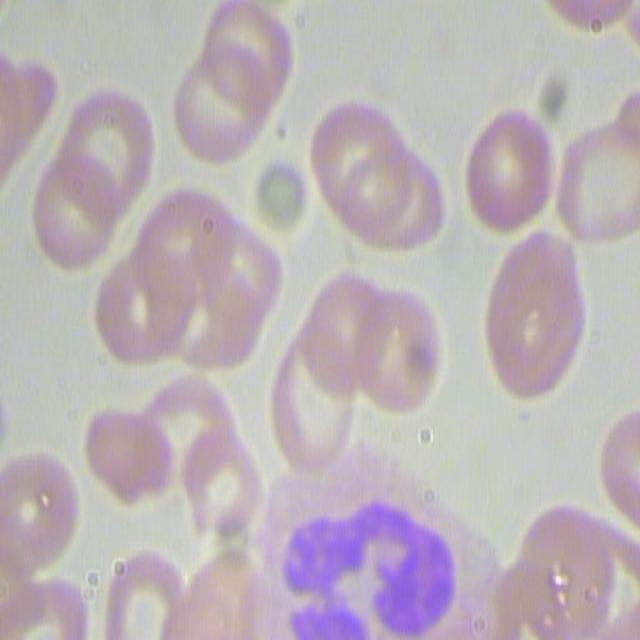RBC: (133, 187, 274, 377), (33, 76, 151, 276), (314, 92, 450, 259), (172, 2, 294, 173), (172, 365, 272, 563), (501, 498, 637, 640), (481, 225, 588, 396), (332, 265, 447, 423), (77, 403, 208, 531), (212, 108, 312, 250), (456, 100, 559, 232), (270, 346, 360, 478), (554, 125, 640, 252), (93, 255, 179, 369), (167, 548, 272, 638), (4, 565, 126, 640), (100, 545, 190, 638), (0, 449, 74, 562), (0, 47, 47, 189), (602, 402, 640, 553), (534, 0, 639, 33)
WBC: (279, 494, 512, 640)
